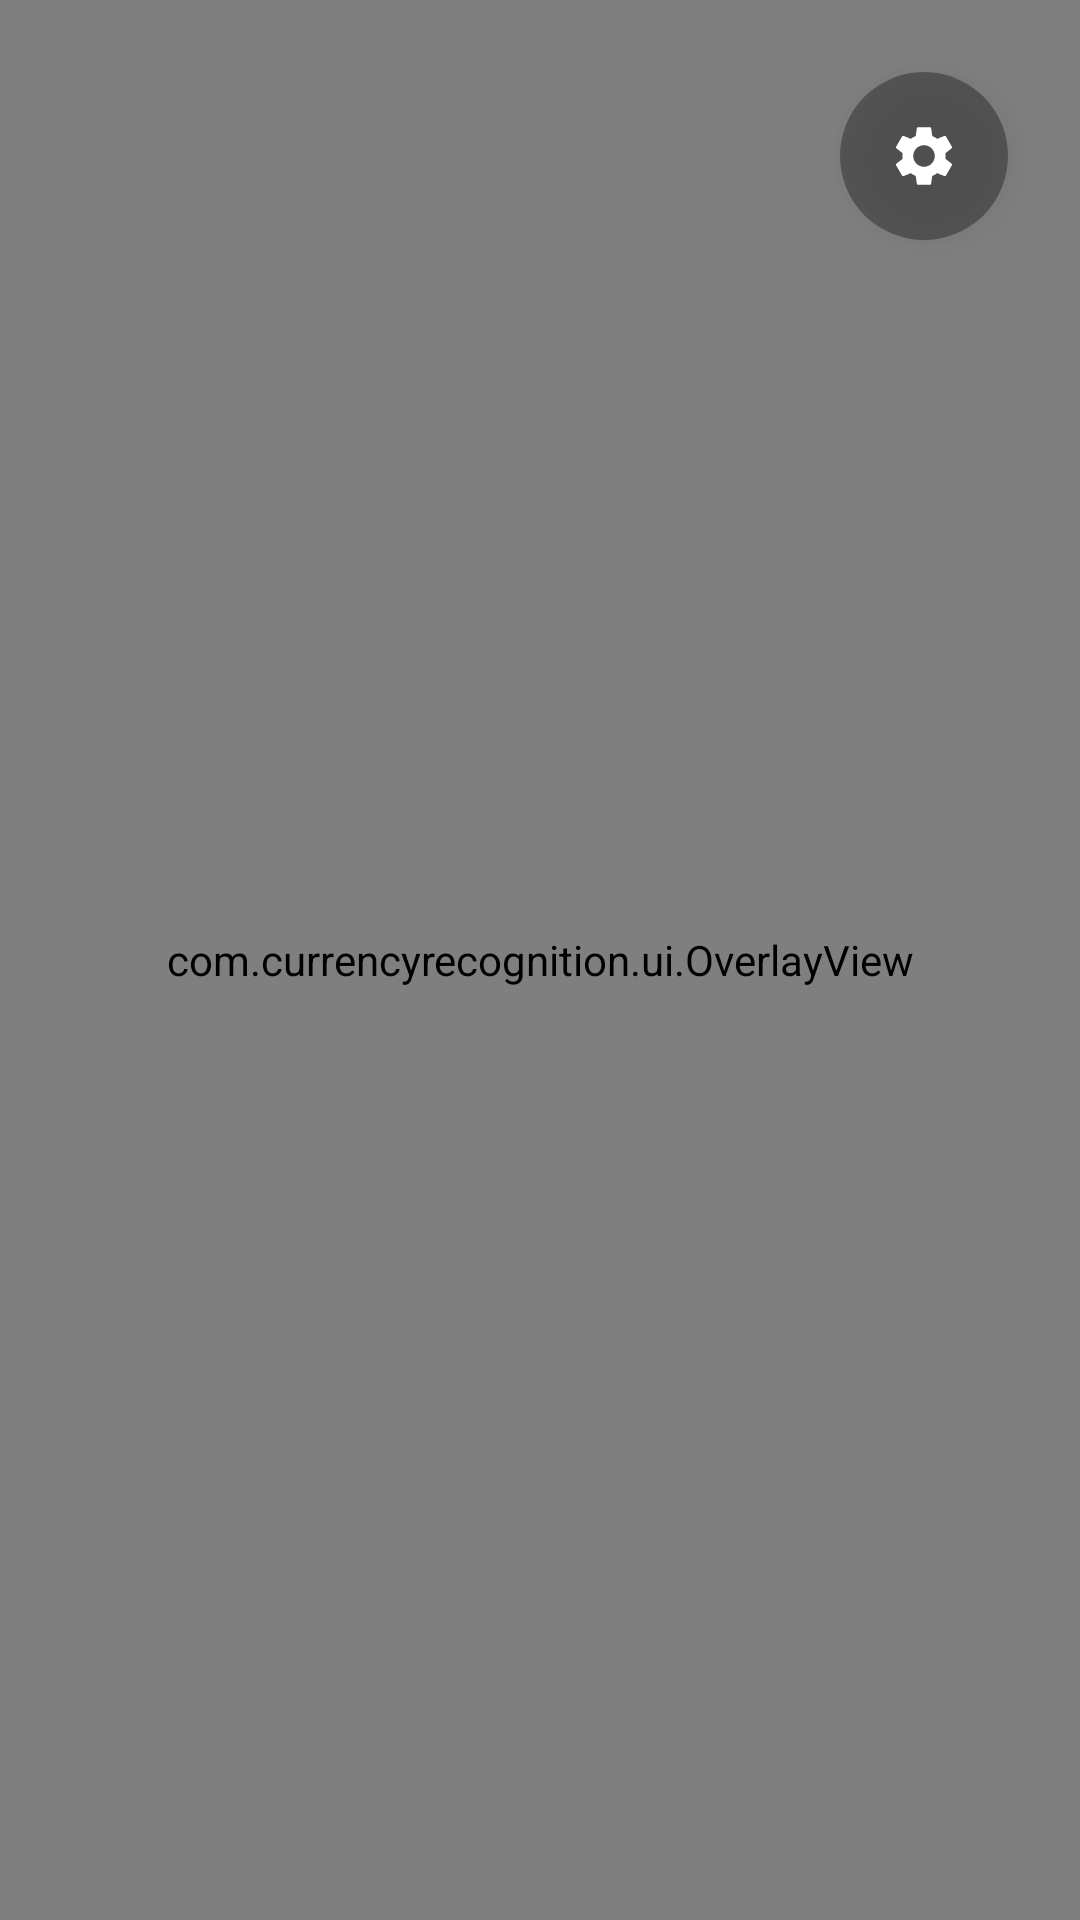

Named icons in this screenshot (1080 x 1920) and their centers, (x=x, y=y):
Settings: (x=924, y=156)
